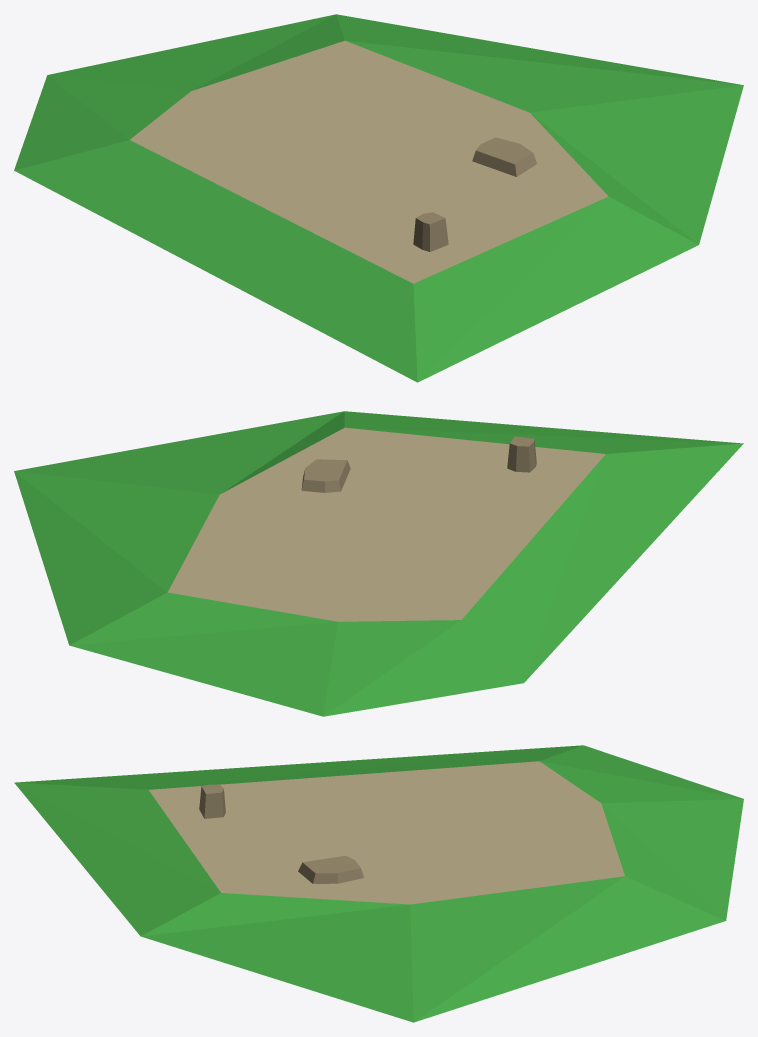
The model's file is Ground_10.FBX.
3 renders of one model, top to bottom at view 1: azimuth 30°, elevation 25°; view 2: azimuth 150°, elevation 25°; view 3: azimuth 270°, elevation 25°, orthographic. The views are drawn at different scales.
Parts seen in each view (by area): view 1: Ground_10; view 2: Ground_10; view 3: Ground_10.
Part boxes in pixels (x1,y1,x2,y2): Ground_10: (14, 14, 743, 382); Ground_10: (14, 411, 743, 716); Ground_10: (14, 745, 743, 1022).
Size of the model in its own units: 1.25 by 0.1 by 1.39.
